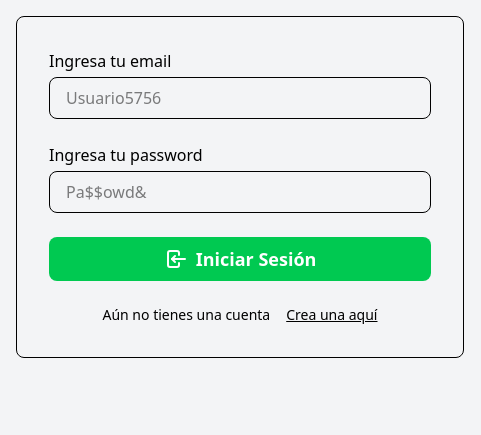
Test case: FormLogin Test › Validation › Debe de mostrar un error de validación si no se ingresa un password mayor a 6 caracteres
Type "test1" into the password field with test id "password" at (240, 192), box [49,171,431,213]
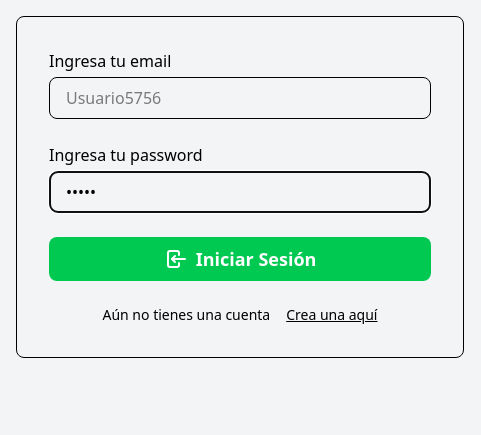
Press Tab
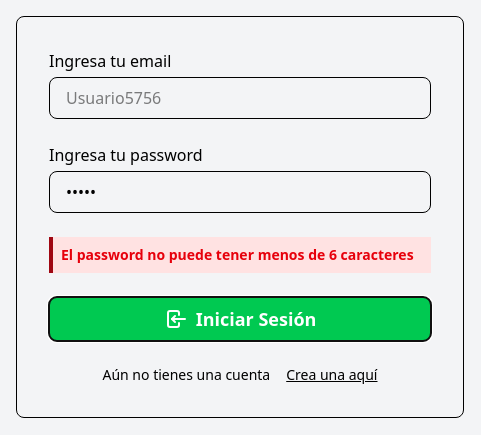
Check: the text "El password no puede tener menos de 6 caracteres" is shown, box [49,237,431,273]
